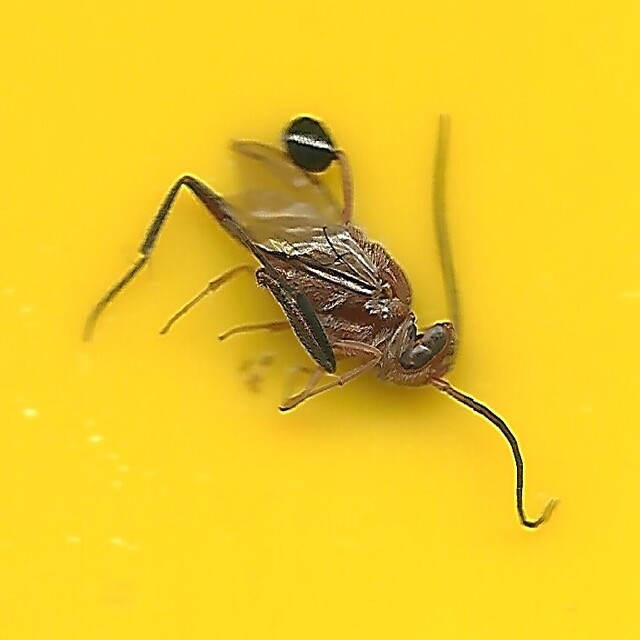Hymenoptera: (85, 111, 555, 529)
